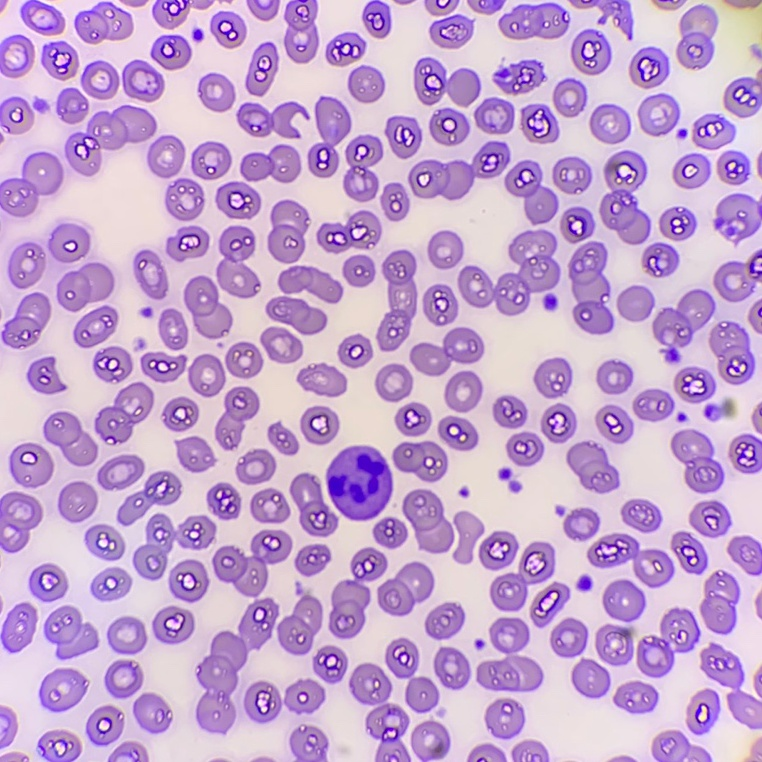RBC: (196, 598, 277, 731), (457, 231, 558, 314), (65, 106, 155, 175), (408, 142, 508, 199), (213, 530, 291, 595), (330, 548, 386, 637), (326, 446, 391, 519), (599, 152, 648, 244), (587, 534, 671, 586), (350, 663, 407, 739), (490, 542, 553, 610), (0, 153, 64, 217), (637, 608, 697, 674), (568, 242, 611, 333), (377, 251, 416, 350), (95, 382, 153, 445), (410, 328, 483, 376), (308, 97, 350, 177), (652, 290, 713, 345), (118, 471, 180, 523), (402, 489, 453, 552), (505, 163, 556, 223), (671, 430, 720, 492), (217, 227, 260, 297), (414, 60, 479, 106), (184, 276, 231, 338), (377, 562, 433, 614), (290, 473, 336, 535), (44, 412, 97, 465), (278, 590, 321, 653), (57, 263, 114, 310), (215, 387, 258, 449), (3, 293, 51, 348), (566, 441, 617, 492), (317, 211, 380, 252), (0, 492, 43, 551), (343, 136, 382, 201), (134, 514, 173, 577), (268, 201, 308, 262), (50, 606, 98, 656), (709, 322, 747, 383), (266, 296, 326, 334), (476, 655, 541, 690), (279, 266, 341, 302), (241, 145, 300, 182), (700, 571, 735, 632), (393, 441, 446, 481), (237, 103, 297, 138), (284, 1, 317, 63), (500, 9, 566, 39), (713, 262, 761, 301), (10, 443, 53, 486), (9, 243, 50, 288), (78, 9, 132, 43), (74, 307, 117, 347), (44, 668, 87, 708), (602, 579, 643, 620), (123, 61, 164, 101), (724, 72, 761, 116), (652, 730, 704, 761), (530, 583, 568, 625), (595, 625, 637, 663), (98, 455, 144, 489), (49, 224, 90, 262), (170, 559, 208, 600), (216, 183, 260, 218), (298, 364, 346, 396), (247, 44, 277, 95), (59, 481, 97, 521), (166, 179, 203, 220), (444, 371, 481, 412), (135, 251, 167, 298), (133, 692, 172, 730), (148, 136, 184, 177), (153, 606, 194, 642), (454, 512, 483, 562), (534, 358, 570, 398), (386, 117, 421, 158), (261, 327, 302, 362), (189, 354, 224, 395), (192, 142, 230, 179), (485, 698, 523, 735), (244, 681, 280, 720), (571, 34, 606, 74), (590, 106, 627, 143), (375, 364, 412, 401), (595, 405, 632, 442), (301, 406, 338, 443), (479, 531, 516, 568), (571, 659, 608, 696), (411, 721, 448, 758), (290, 724, 327, 761), (429, 109, 467, 145), (425, 602, 463, 638), (550, 618, 586, 656), (701, 645, 737, 683), (87, 705, 123, 743), (236, 449, 275, 484), (434, 647, 468, 687), (167, 227, 208, 260), (7, 603, 37, 648), (199, 74, 235, 111), (638, 98, 674, 135), (552, 158, 589, 194), (689, 500, 726, 536), (109, 616, 146, 652), (106, 659, 142, 696), (475, 99, 513, 134), (716, 199, 754, 234), (94, 347, 132, 382), (438, 416, 477, 450), (423, 285, 456, 325), (671, 531, 703, 572), (490, 617, 527, 652), (541, 404, 575, 442), (82, 64, 118, 99), (348, 67, 384, 102), (521, 108, 557, 143), (225, 342, 261, 377), (28, 357, 63, 393), (177, 436, 213, 471), (32, 564, 67, 600), (0, 40, 34, 77), (428, 231, 462, 268), (87, 524, 124, 558), (251, 489, 289, 522), (141, 353, 185, 381), (614, 681, 655, 711), (616, 286, 651, 321), (674, 368, 710, 402), (728, 435, 761, 472), (385, 638, 417, 676), (162, 397, 198, 430), (506, 432, 542, 465), (728, 536, 760, 573), (177, 516, 215, 547), (632, 390, 671, 420), (285, 680, 324, 710), (313, 645, 346, 680), (621, 499, 657, 531), (492, 395, 526, 428), (159, 309, 187, 349), (596, 361, 631, 393), (395, 403, 430, 435), (208, 483, 240, 518), (553, 80, 584, 116), (430, 21, 471, 48), (42, 729, 81, 757), (45, 46, 78, 79), (559, 208, 591, 242), (153, 40, 190, 69), (502, 65, 539, 94), (26, 6, 64, 34), (326, 37, 364, 65), (2, 101, 34, 134), (641, 244, 674, 276), (405, 677, 437, 710), (57, 89, 88, 123), (563, 508, 598, 538), (295, 544, 330, 574), (339, 335, 372, 366), (381, 183, 408, 220), (659, 207, 690, 239), (629, 54, 659, 87), (728, 693, 761, 723), (687, 690, 713, 728), (96, 568, 130, 597), (374, 517, 406, 547), (343, 255, 373, 286), (212, 19, 245, 47), (673, 159, 703, 188), (268, 424, 297, 454), (692, 121, 723, 148), (156, 1, 186, 28), (363, 6, 389, 37), (512, 740, 547, 761), (677, 41, 704, 68), (717, 157, 742, 184), (467, 743, 504, 761), (247, 0, 279, 20), (680, 10, 712, 30), (601, 0, 624, 27), (375, 743, 409, 761), (118, 741, 148, 761), (748, 301, 761, 332), (425, 0, 448, 15), (720, 398, 736, 418), (752, 405, 761, 431), (750, 740, 761, 761), (730, 0, 760, 7), (0, 752, 23, 761), (187, 0, 211, 8), (468, 0, 485, 11), (125, 0, 145, 6), (756, 595, 761, 615), (8, 722, 17, 733), (613, 756, 631, 761), (572, 0, 583, 7), (499, 469, 508, 477), (655, 0, 666, 6), (578, 577, 586, 585), (757, 158, 761, 171), (0, 0, 6, 8), (587, 0, 596, 5), (258, 757, 268, 761), (399, 0, 407, 4)
